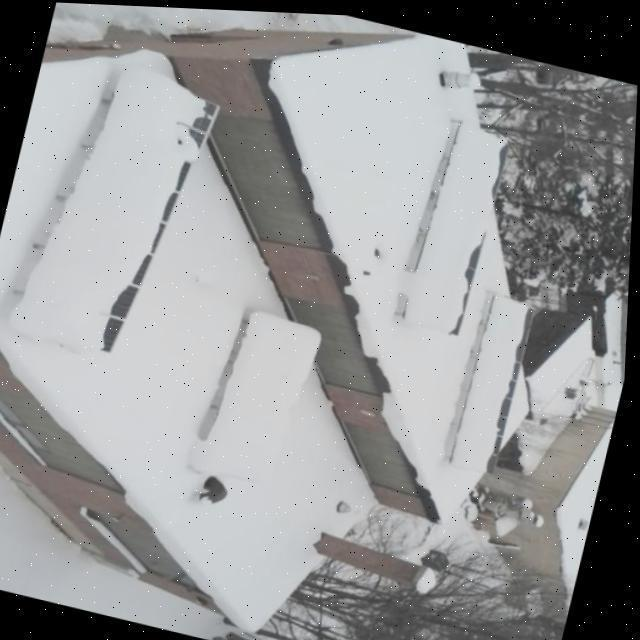Anomaly Solar Panel: (9, 50, 226, 366), (407, 113, 513, 335), (199, 305, 326, 490), (454, 289, 539, 470)
Snow: (12, 50, 225, 363), (194, 302, 331, 492), (406, 113, 510, 333), (451, 287, 540, 472)
